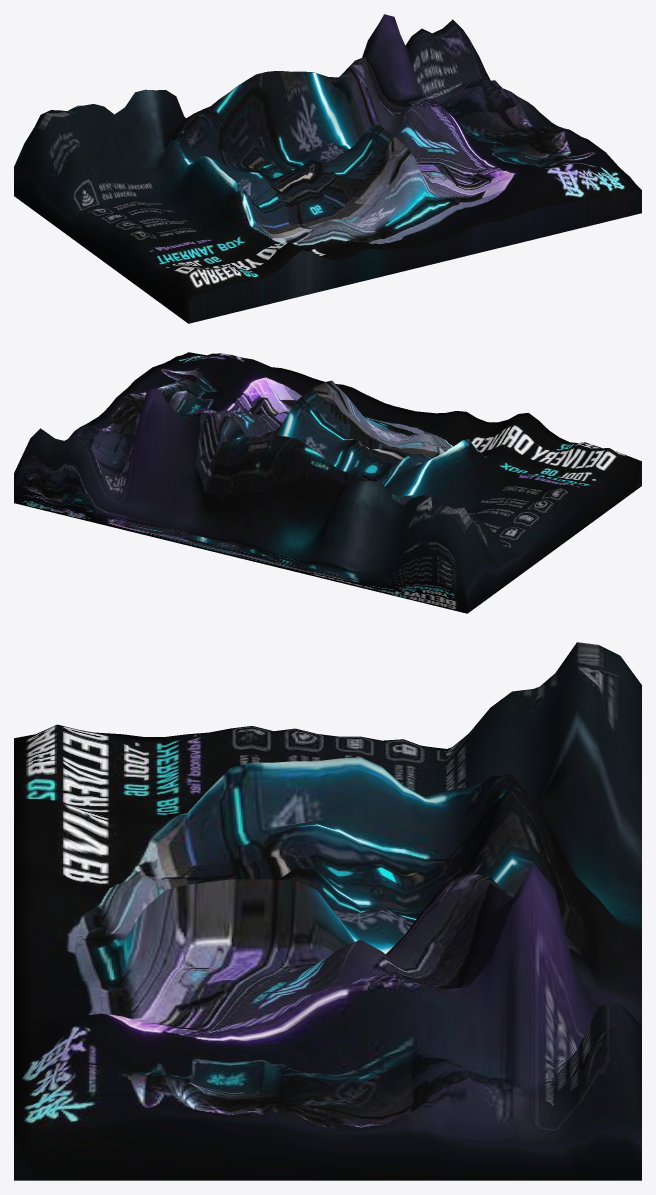
File: CAREER_02_Tool_06_Thermal_Box.glb
3 renders of one model, top to bottom at view 1: azimuth 30°, elevation 25°; view 2: azimuth 150°, elevation 25°; view 3: azimuth 270°, elevation 25°, orthographic. The views are drawn at different scales.
Visible parts, largest first — view 1: CAREER_02_Tool_06_Thermal_Box; view 2: CAREER_02_Tool_06_Thermal_Box; view 3: CAREER_02_Tool_06_Thermal_Box.
Part boxes in pixels (box(x1,y1,x2,y2)): CAREER_02_Tool_06_Thermal_Box: box(14, 14, 641, 323); CAREER_02_Tool_06_Thermal_Box: box(14, 352, 641, 613); CAREER_02_Tool_06_Thermal_Box: box(14, 642, 641, 1180).
Size of the model in its own units: 2 by 0.51 by 1.33.
Materials: 1 (1 with a texture image).
